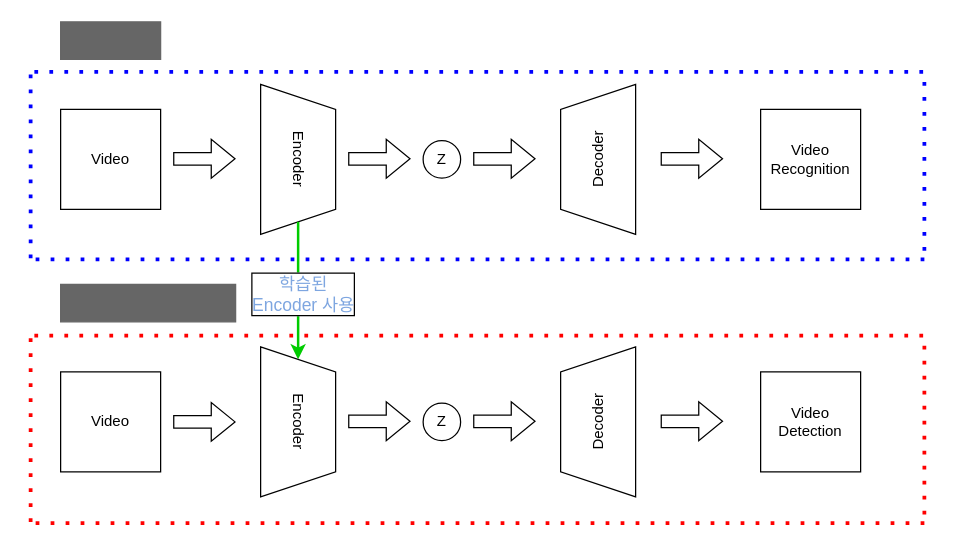
This 960x548 diagram has some shape labels left out. The centre of each missing label's shape, as x and y in pixels:
"Down Stream" goes at (147,302).
"Pretext" goes at (110,40).
